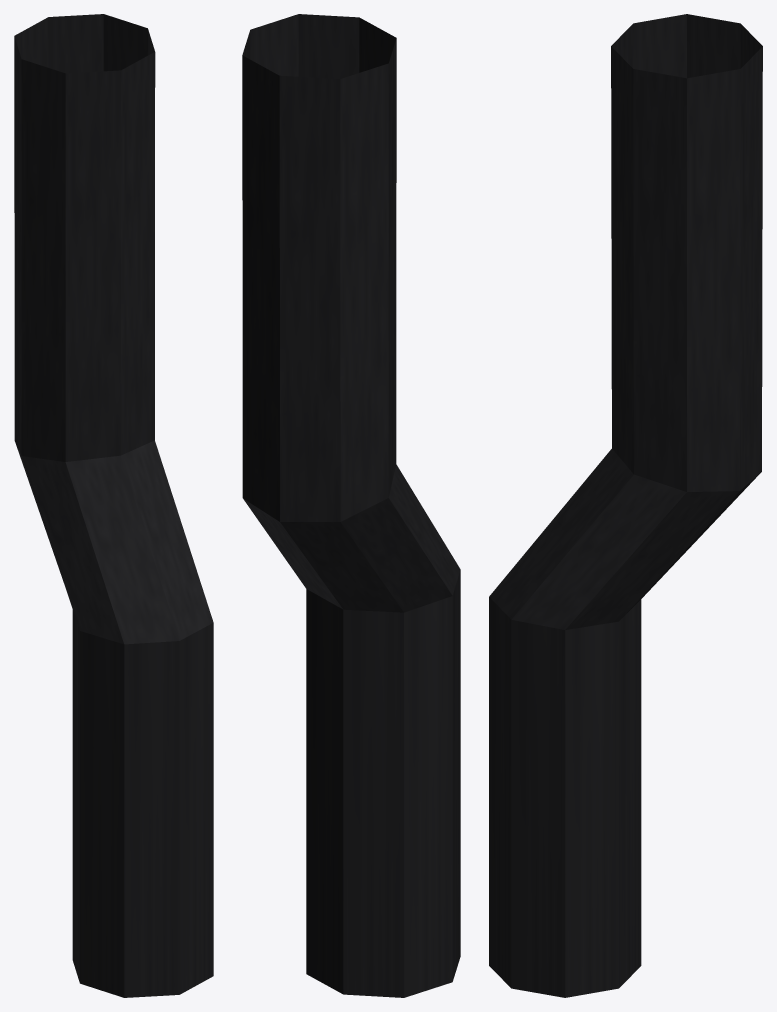
The model's file is cell_172.obj.
3 renders of one model, left to right at view 1: azimuth 30°, elevation 25°; view 2: azimuth 150°, elevation 25°; view 3: azimuth 270°, elevation 25°, orthographic. The views are drawn at different scales.
Bounding box in the file's own units: 0.15 × 1 × 0.2698.
